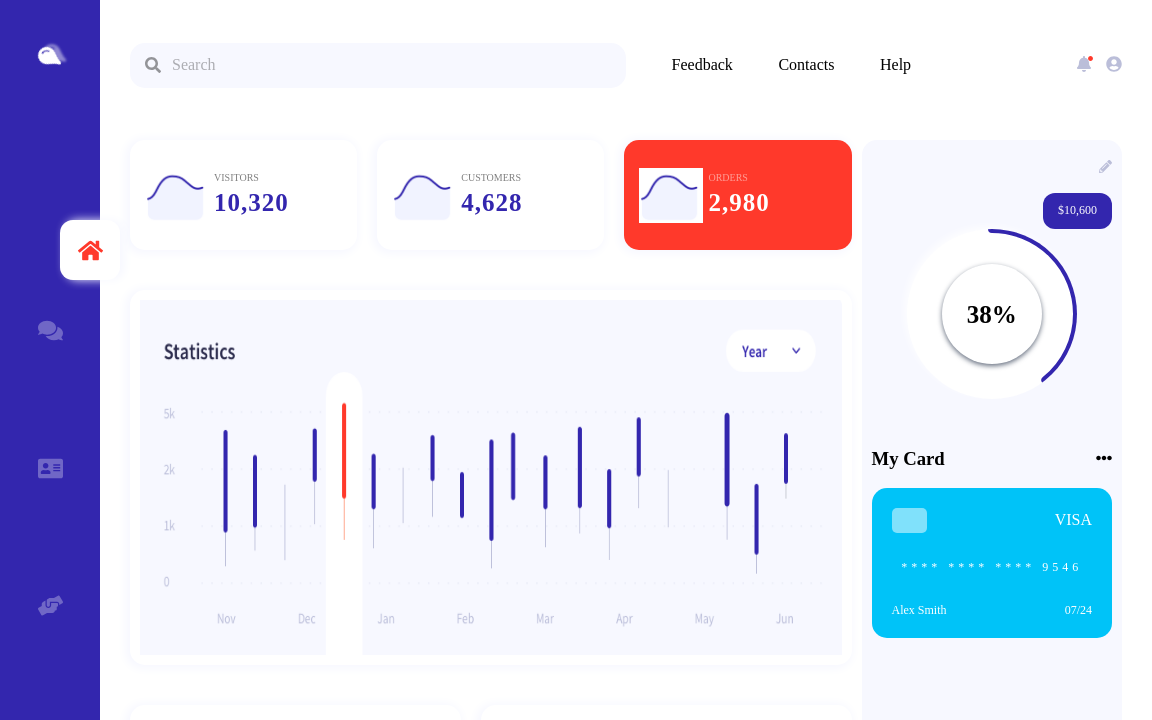
Test: App › I can navigate to feedback page from the aside component
Click the link with test id "svg-comments" at (50, 336), box [38,327,62,344]
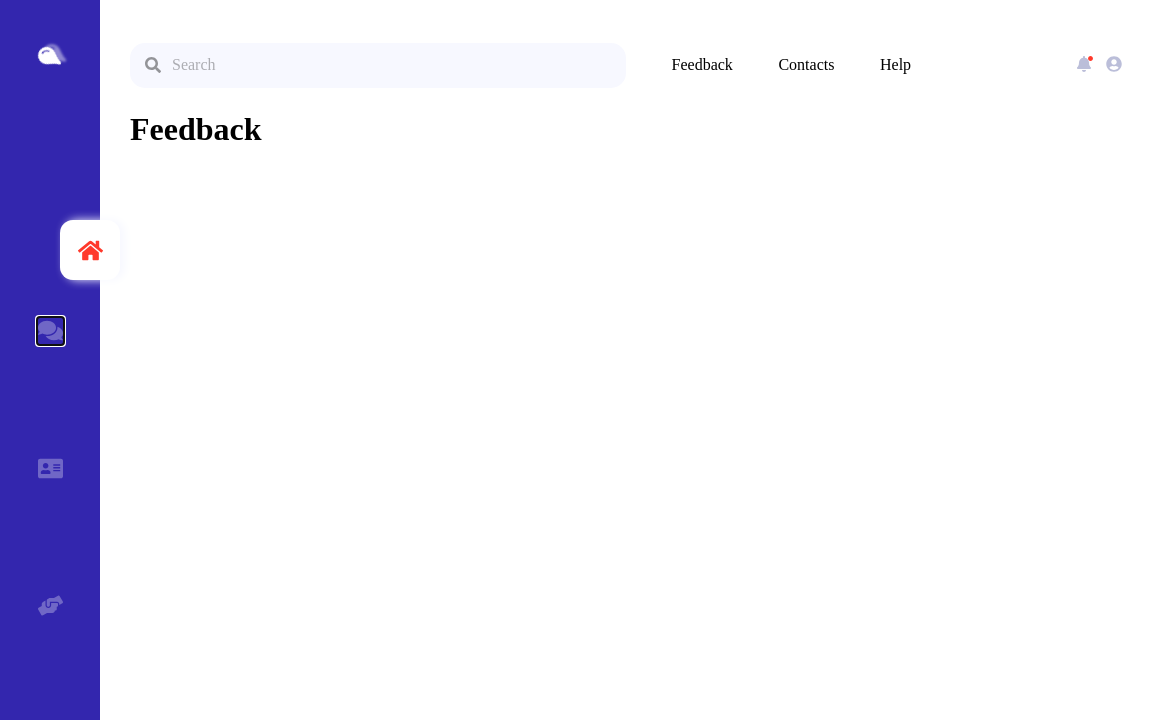
Expected: the heading "Feedback" is shown, [130,111,262,147]
